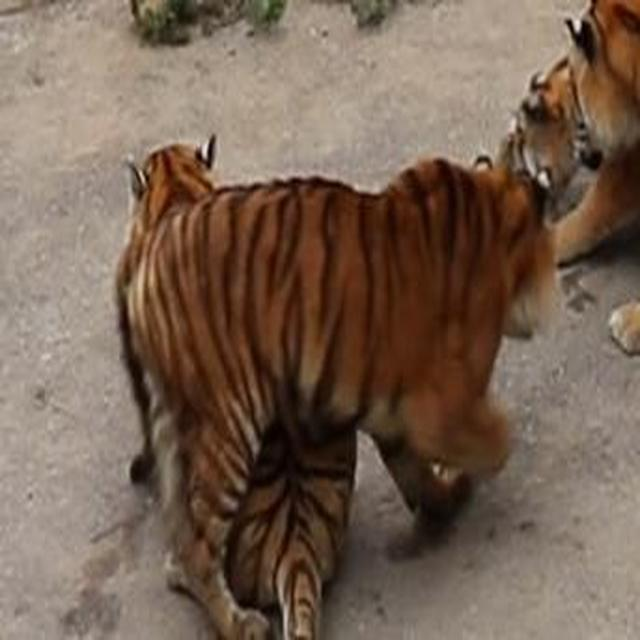tiger: (118, 153, 600, 640), (103, 124, 376, 640), (489, 24, 623, 238), (560, 0, 639, 361)
